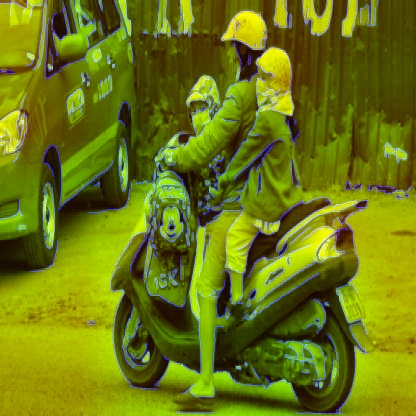bike: (128, 140, 367, 389)
